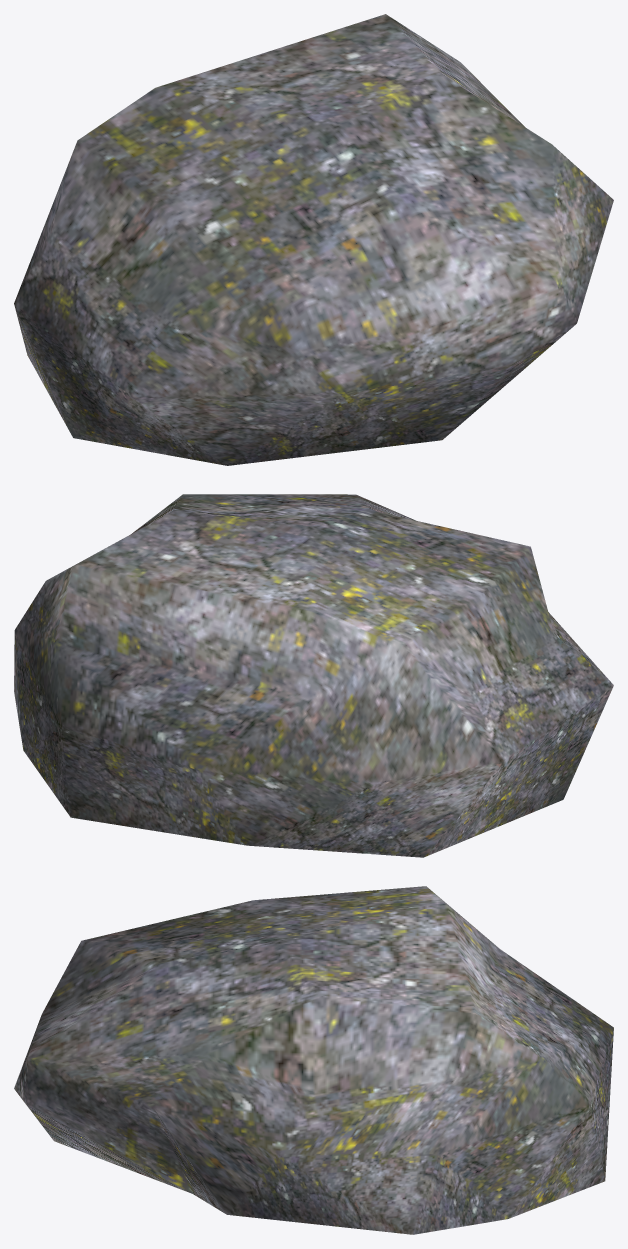
Rendered from rock_weatheredmossy_medium_a2_l0.fbx.
3 renders of one model, top to bottom at view 1: azimuth 30°, elevation 25°; view 2: azimuth 150°, elevation 25°; view 3: azimuth 270°, elevation 25°, orthographic. The views are drawn at different scales.
Visible parts, largest first — view 1: mesh_node; view 2: mesh_node; view 3: mesh_node.
Part boxes in pixels (x1,y1,x2,y2): mesh_node: (14,14,613,465); mesh_node: (14,494,613,857); mesh_node: (14,886,613,1234).
Bounding box in the file's own units: 0.4028 × 0.1806 × 0.4271.
Materials: 1 (1 with a texture image).
